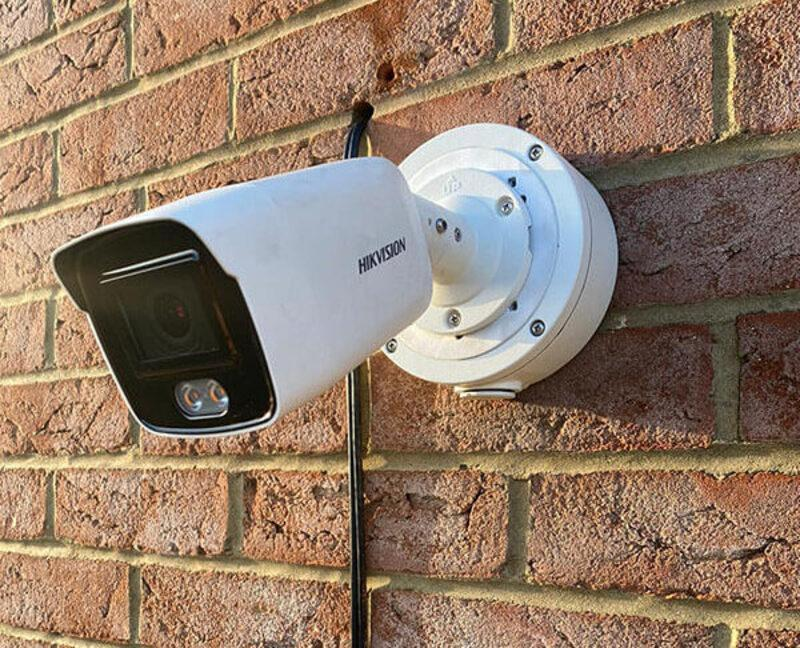bullet: (42, 158, 435, 443)
